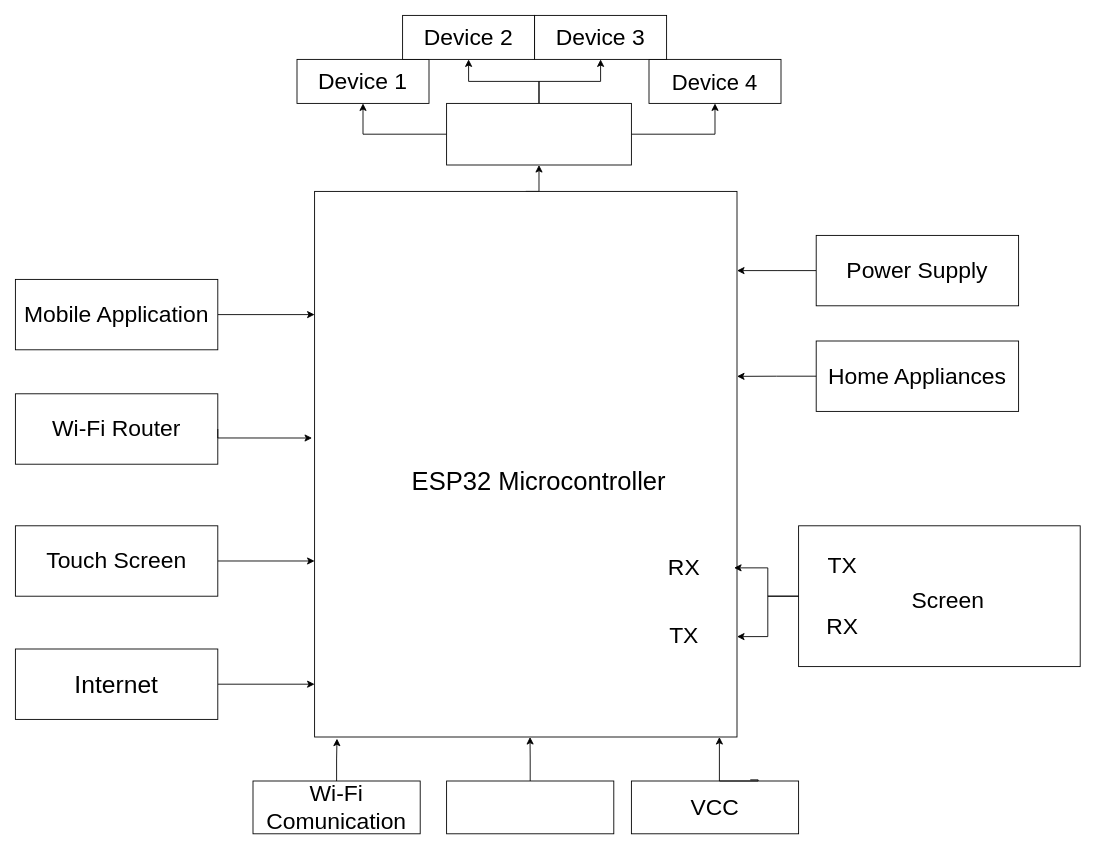
The diagram is 1096 pixels wide and 856 high, and some of its shapes have lost their labels. The box of each missing label's shape, as (x1, y1, x2, y2) in pixels:
Gnd: (446, 780, 614, 834)
Relay: (446, 103, 631, 165)
